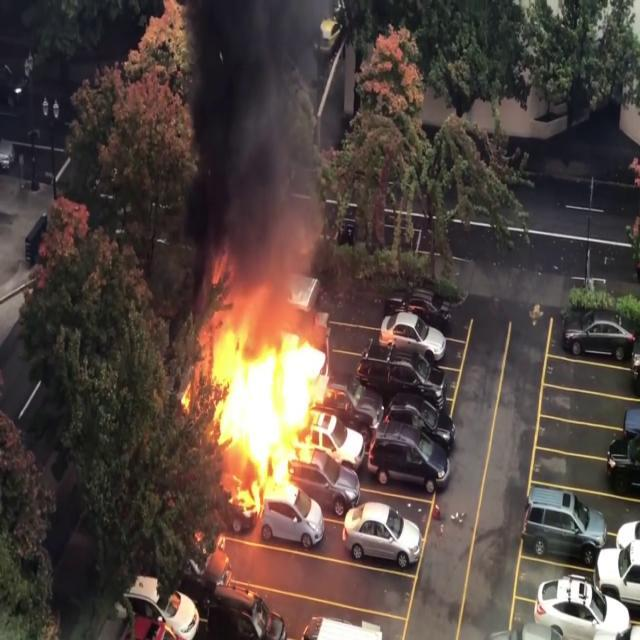Fire: (195, 314, 348, 510)
Smoke: (176, 0, 336, 320)
